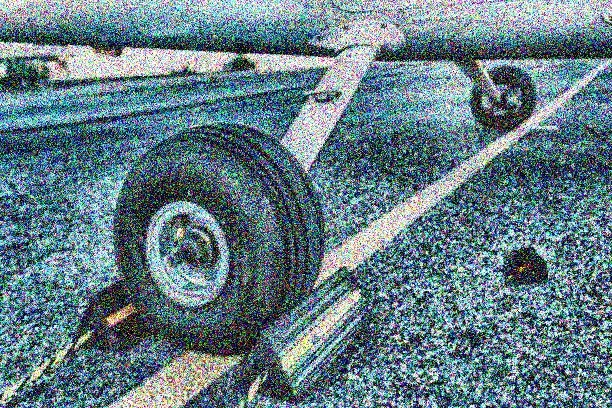chock: (230, 260, 376, 408), (68, 268, 178, 360), (503, 246, 548, 287)
wheel: (94, 116, 330, 372), (470, 61, 541, 133)
